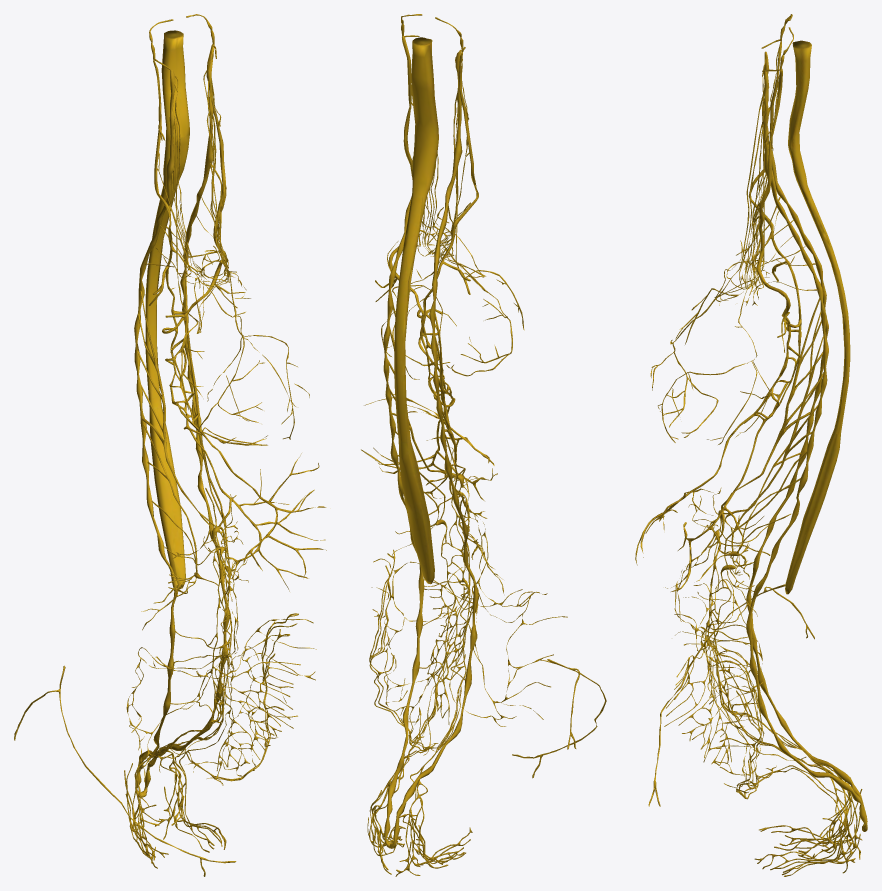
Rendered from ans.glb.
3 views of the same model, side by side, from view 1: azimuth 30°, elevation 25°; view 2: azimuth 150°, elevation 25°; view 3: azimuth 270°, elevation 25° (orthographic).
Parts seen in each view (by area): view 1: Spinal_cord, Cardiac_plexus, Right_sympathetic_chain, Left_sympathetic_chain, Left_vagus_nerve_Cranial_nerve_X, Right_vagus_nerve_Cranial_nerve_X, Superior_mesenteric_plexus_without_ileal_and_jejunal_branche, Right_greater_splanchnic_nerve, Inferior_mesenteric_plexus, Left_inferior_hypogastric_plexus, Right_inferior_hypogastric_plexus, Left_greater_splanchnic_nerve (+2 smaller); view 2: Spinal_cord, Right_sympathetic_chain, Cardiac_plexus, Left_sympathetic_chain, Right_vagus_nerve_Cranial_nerve_X, Left_vagus_nerve_Cranial_nerve_X, Superior_mesenteric_plexus_without_ileal_and_jejunal_branche, Inferior_mesenteric_plexus, Right_inferior_hypogastric_plexus, Left_pelvic_splanchnic_nerve_2, Left_inferior_hypogastric_plexus, Right_greater_splanchnic_nerve (+3 smaller); view 3: Spinal_cord, Cardiac_plexus, Left_sympathetic_chain, Right_sympathetic_chain, Left_vagus_nerve_Cranial_nerve_X, Right_vagus_nerve_Cranial_nerve_X, Superior_mesenteric_plexus_without_ileal_and_jejunal_branche, Inferior_mesenteric_plexus, Right_inferior_hypogastric_plexus, Left_inferior_hypogastric_plexus, Right_greater_splanchnic_nerve, Left_greater_splanchnic_nerve (+4 smaller).
Boxes of the visible parts, x1,y1,x2,y2 form: Spinal_cord: [145, 30, 189, 588]; Cardiac_plexus: [145, 70, 309, 445]; Right_sympathetic_chain: [134, 69, 178, 797]; Left_sympathetic_chain: [138, 59, 229, 797]; Left_vagus_nerve_Cranial_nerve_X: [162, 44, 326, 577]; Right_vagus_nerve_Cranial_nerve_X: [148, 60, 325, 591]; Superior_mesenteric_plexus_without_ileal_and_jejunal_branche: [126, 571, 289, 782]; Right_greater_splanchnic_nerve: [137, 291, 216, 559]; Inferior_mesenteric_plexus: [168, 619, 316, 783]; Left_inferior_hypogastric_plexus: [155, 742, 226, 852]; Right_inferior_hypogastric_plexus: [132, 747, 168, 868]; Left_greater_splanchnic_nerve: [185, 277, 237, 529]; Spinal_cord: [394, 37, 438, 584]; Right_sympathetic_chain: [387, 50, 478, 848]; Cardiac_plexus: [381, 57, 524, 379]; Left_sympathetic_chain: [383, 197, 424, 848]; Right_vagus_nerve_Cranial_nerve_X: [361, 52, 485, 500]; Left_vagus_nerve_Cranial_nerve_X: [364, 36, 494, 465]; Superior_mesenteric_plexus_without_ileal_and_jejunal_branche: [410, 506, 567, 726]; Inferior_mesenteric_plexus: [371, 558, 467, 755]; Right_inferior_hypogastric_plexus: [395, 747, 472, 876]; Left_pelvic_splanchnic_nerve_2: [367, 549, 438, 847]; Left_inferior_hypogastric_plexus: [372, 747, 416, 874]; Right_greater_splanchnic_nerve: [435, 313, 487, 518]; Spinal_cord: [785, 40, 850, 594]; Cardiac_plexus: [650, 59, 817, 444]; Left_sympathetic_chain: [746, 71, 867, 830]; Right_sympathetic_chain: [746, 51, 867, 831]; Left_vagus_nerve_Cranial_nerve_X: [635, 68, 801, 565]; Right_vagus_nerve_Cranial_nerve_X: [665, 41, 801, 591]; Superior_mesenteric_plexus_without_ileal_and_jejunal_branche: [674, 550, 762, 727]; Inferior_mesenteric_plexus: [700, 632, 806, 793]; Right_inferior_hypogastric_plexus: [759, 747, 862, 859]; Left_inferior_hypogastric_plexus: [754, 759, 855, 876]; Right_greater_splanchnic_nerve: [723, 298, 823, 528]; Left_greater_splanchnic_nerve: [723, 310, 823, 536].
Size of the model in its own units: 0.2281 by 0.7112 by 0.1771.
Materials: 56 (56 with a texture image).
